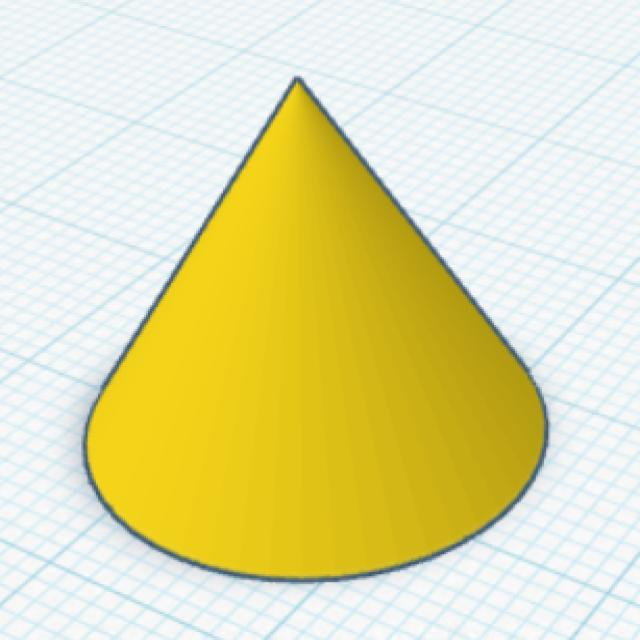cone: (78, 71, 554, 586)
